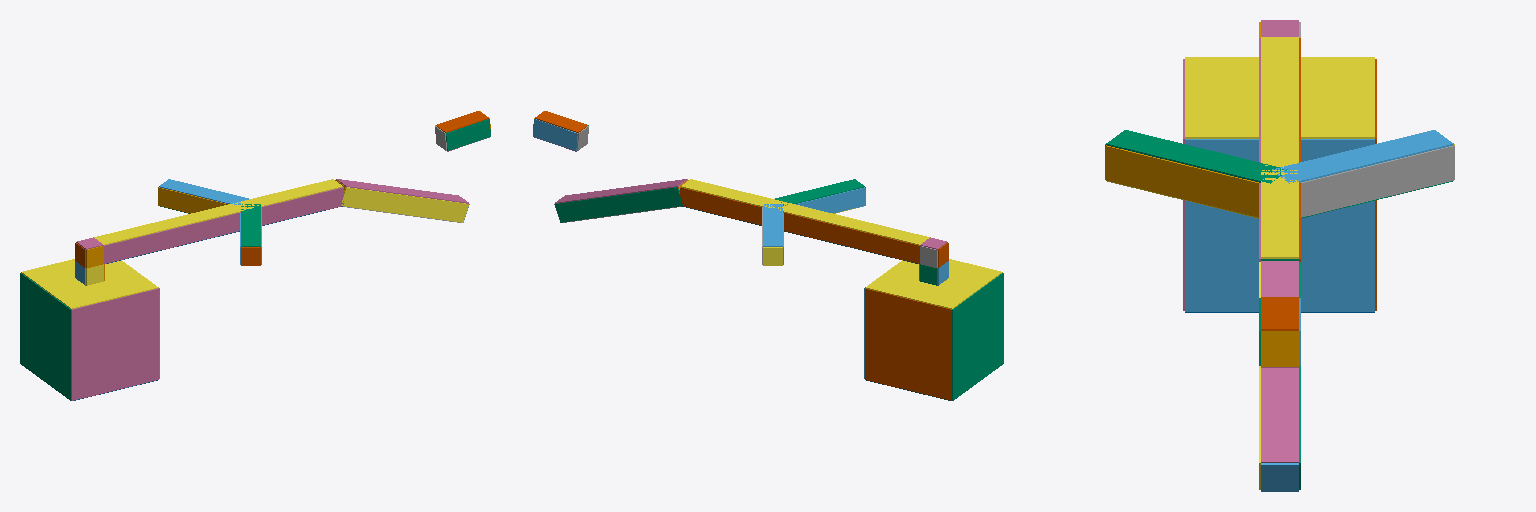
--- Facts derived from the render (not from the file) ---
3 views of the same robot in one strip: view 1: azimuth 30°, elevation 25°; view 2: azimuth 150°, elevation 25°; view 3: azimuth 270°, elevation 25° (orthographic).
Robot: robot — 73 links, 72 joints (2 continuous, 70 fixed); root link body; default pose: all joints at 0.
Links seen in each view (by area): view 1: body_sensor_0_right, body_sensor_0_stop, arm_sensor_0_right, body_sensor_0_top, arm_sensor_0_top, finger_1_3_sensor_0_right, palm_2_sensor_0_stop, finger_1_3_sensor_0_start, palm_2_sensor_0_top, finger_2_3_sensor_0_right, palm_1_sensor_0_top; view 2: body_sensor_0_left, body_sensor_0_stop, arm_sensor_0_left, body_sensor_0_top, arm_sensor_0_top, finger_1_3_sensor_0_left, palm_1_sensor_0_stop, finger_1_3_sensor_0_start, palm_2_sensor_0_top, palm_1_sensor_0_top, finger_2_3_sensor_0_left; view 3: body_sensor_0_start, body_sensor_0_top, arm_sensor_0_top, palm_1_sensor_0_start, palm_2_sensor_0_start, finger_1_3_sensor_0_start, palm_2_sensor_0_top, palm_1_sensor_0_top, finger_2_3_sensor_0_bottom, finger_2_3_sensor_0_start, finger_1_3_sensor_0_bottom, joint_2_sensor_0_top.
Link boxes in pixels (<box>): body_sensor_0_right: <box>72,288,158,400</box>; body_sensor_0_stop: <box>20,273,71,400</box>; arm_sensor_0_right: <box>104,187,343,263</box>; body_sensor_0_top: <box>21,259,158,308</box>; arm_sensor_0_top: <box>94,179,342,244</box>; finger_1_3_sensor_0_right: <box>341,187,468,222</box>; palm_2_sensor_0_stop: <box>158,187,227,213</box>; finger_1_3_sensor_0_start: <box>336,179,468,203</box>; palm_2_sensor_0_top: <box>159,179,248,204</box>; finger_2_3_sensor_0_right: <box>446,119,490,150</box>; palm_1_sensor_0_top: <box>241,204,260,246</box>; body_sensor_0_left: <box>865,288,951,400</box>; body_sensor_0_stop: <box>952,273,1003,400</box>; arm_sensor_0_left: <box>680,187,919,263</box>; body_sensor_0_top: <box>865,259,1002,308</box>; arm_sensor_0_top: <box>681,179,929,244</box>; finger_1_3_sensor_0_left: <box>555,187,682,222</box>; palm_1_sensor_0_stop: <box>796,187,865,213</box>; finger_1_3_sensor_0_start: <box>555,179,687,203</box>; palm_2_sensor_0_top: <box>763,204,782,246</box>; palm_1_sensor_0_top: <box>775,179,864,205</box>; finger_2_3_sensor_0_left: <box>533,119,577,150</box>; body_sensor_0_start: <box>1185,139,1374,311</box>; body_sensor_0_top: <box>1185,57,1374,138</box>; arm_sensor_0_top: <box>1261,37,1298,258</box>; palm_1_sensor_0_start: <box>1105,145,1259,217</box>; palm_2_sensor_0_start: <box>1301,145,1454,217</box>; finger_1_3_sensor_0_start: <box>1261,261,1298,462</box>; palm_2_sensor_0_top: <box>1272,130,1453,183</box>; palm_1_sensor_0_top: <box>1106,130,1287,183</box>; finger_2_3_sensor_0_bottom: <box>1261,331,1298,366</box>; finger_2_3_sensor_0_start: <box>1261,297,1298,330</box>; finger_1_3_sensor_0_bottom: <box>1261,463,1298,491</box>; joint_2_sensor_0_top: <box>1261,20,1298,36</box>.
Size in the robot's own frame: 5.06 by 1.85 by 1.78 metres.
Geometry: primitives only (box / cylinder / sphere), no mesh files.

robot.urdf — robot:
<?xml version="1.0"?>
    <robot name="robot">


    <!-- body -->
    <link name="body">
        <inertial>
            <origin xyz="0 0 0" rpy="0 0 0"/>
            <mass value="100"/>
            <inertia ixx=".1" ixy=".1" ixz=".1" iyy=".1" iyz=".1" izz=".1"/>
        </inertial>
        <visual>
            <origin xyz="0 0 0" rpy="0 0 0"/>
            <geometry>
                <box size="1 1 1"/>
            </geometry>
        </visual>
        <collision>
            <origin xyz="0 0 0" rpy="0 0 0"/>
            <geometry>
                <box size="1 1 1"/>
            </geometry>
        </collision>
    </link>


    <!-- body_sensor_0_start -->
    <link name="body_sensor_0_start">
        <inertial>
            <origin xyz="0 0 0" rpy="0 0 0"/>
            <mass value="0"/>
            <inertia ixx=".1" ixy=".1" ixz=".1" iyy=".1" iyz=".1" izz=".1"/>
        </inertial>
        <visual>
            <origin xyz="0 0 0" rpy="0 0 0"/>
            <geometry>
                <box size="0.02 1 1"/>
            </geometry>
        </visual>
        <collision>
            <origin xyz="0 0 0" rpy="0 0 0"/>
            <geometry>
                <box size="0.02 1 1"/>
            </geometry>
        </collision>
    </link>
    <!-- Joint: body, body_sensor_0_start -->
    <joint name="body_body_sensor_0_start_joint" type="fixed">
        <parent link="body"/>
        <child link="body_sensor_0_start"/>
        <origin xyz="0.5 0 0"
                rpy="0 0 0"/>
        <axis xyz="0 0 1"/>
        
    </joint>


    <!-- body_sensor_0_stop -->
    <link name="body_sensor_0_stop">
        <inertial>
            <origin xyz="0 0 0" rpy="0 0 0"/>
            <mass value="0"/>
            <inertia ixx=".1" ixy=".1" ixz=".1" iyy=".1" iyz=".1" izz=".1"/>
        </inertial>
        <visual>
            <origin xyz="0 0 0" rpy="0 0 0"/>
            <geometry>
                <box size="0.02 1 1"/>
            </geometry>
        </visual>
        <collision>
            <origin xyz="0 0 0" rpy="0 0 0"/>
            <geometry>
                <box size="0.02 1 1"/>
            </geometry>
        </collision>
    </link>
    <!-- Joint: body, body_sensor_0_stop -->
    <joint name="body_body_sensor_0_stop_joint" type="fixed">
        <parent link="body"/>
        <child link="body_sensor_0_stop"/>
        <origin xyz="-0.5 0 0"
                rpy="0 0 0"/>
        <axis xyz="0 0 1"/>
        
    </joint>


    <!-- body_sensor_0_top -->
    <link name="body_sensor_0_top">
        <inertial>
            <origin xyz="0 0 0" rpy="0 0 0"/>
            <mass value="0"/>
            <inertia ixx=".1" ixy=".1" ixz=".1" iyy=".1" iyz=".1" izz=".1"/>
        </inertial>
        <visual>
            <origin xyz="0 0 0" rpy="0 0 0"/>
            <geometry>
                <box size="1.0 1 0.02"/>
            </geometry>
        </visual>
        <collision>
            <origin xyz="0 0 0" rpy="0 0 0"/>
            <geometry>
                <box size="1.0 1 0.02"/>
            </geometry>
        </collision>
    </link>
    <!-- Joint: body, body_sensor_0_top -->
    <joint name="body_body_sensor_0_top_joint" type="fixed">
        <parent link="body"/>
        <child link="body_sensor_0_top"/>
        <origin xyz="0 0 0.5"
                rpy="0 0 0"/>
        <axis xyz="0 0 1"/>
        
    </joint>


    <!-- body_sensor_0_bottom -->
    <link name="body_sensor_0_bottom">
        <inertial>
            <origin xyz="0 0 0" rpy="0 0 0"/>
            <mass value="0"/>
            <inertia ixx=".1" ixy=".1" ixz=".1" iyy=".1" iyz=".1" izz=".1"/>
        </inertial>
        <visual>
            <origin xyz="0 0 0" rpy="0 0 0"/>
            <geometry>
                <box size="1.0 1 0.02"/>
            </geometry>
        </visual>
        <collision>
            <origin xyz="0 0 0" rpy="0 0 0"/>
            <geometry>
                <box size="1.0 1 0.02"/>
            </geometry>
        </collision>
    </link>
    <!-- Joint: body, body_sensor_0_bottom -->
    <joint name="body_body_sensor_0_bottom_joint" type="fixed">
        <parent link="body"/>
        <child link="body_sensor_0_bottom"/>
        <origin xyz="0 0 -0.5"
                rpy="0 0 0"/>
        <axis xyz="0 0 1"/>
        
    </joint>


    <!-- body_sensor_0_left -->
    <link name="body_sensor_0_left">
        <inertial>
            <origin xyz="0 0 0" rpy="0 0 0"/>
            <mass value="0"/>
            <inertia ixx=".1" ixy=".1" ixz=".1" iyy=".1" iyz=".1" izz=".1"/>
        </inertial>
        <visual>
            <origin xyz="0 0 0" rpy="0 0 0"/>
            <geometry>
                <box size="1.0 0.02 1"/>
            </geometry>
        </visual>
        <collision>
            <origin xyz="0 0 0" rpy="0 0 0"/>
            <geometry>
                <box size="1.0 0.02 1"/>
            </geometry>
        </collision>
    </link>
    <!-- Joint: body, body_sensor_0_left -->
    <joint name="body_body_sensor_0_left_joint" type="fixed">
        <parent link="body"/>
        <child link="body_sensor_0_left"/>
        <origin xyz="0 0.5 0"
                rpy="0 0 0"/>
        <axis xyz="0 0 1"/>
        
    </joint>


    <!-- body_sensor_0_right -->
    <link name="body_sensor_0_right">
        <inertial>
            <origin xyz="0 0 0" rpy="0 0 0"/>
            <mass value="0"/>
            <inertia ixx=".1" ixy=".1" ixz=".1" iyy=".1" iyz=".1" izz=".1"/>
        </inertial>
        <visual>
            <origin xyz="0 0 0" rpy="0 0 0"/>
            <geometry>
                <box size="1.0 0.02 1"/>
            </geometry>
        </visual>
        <collision>
            <origin xyz="0 0 0" rpy="0 0 0"/>
            <geometry>
                <box size="1.0 0.02 1"/>
            </geometry>
        </collision>
    </link>
    <!-- Joint: body, body_sensor_0_right -->
    <joint name="body_body_sensor_0_right_joint" type="fixed">
        <parent link="body"/>
        <child link="body_sensor_0_right"/>
        <origin xyz="0 -0.5 0"
                rpy="0 0 0"/>
        <axis xyz="0 0 1"/>
        
    </joint>


    <!-- joint_1 -->
    <link name="joint_1">
        <inertial>
            <origin xyz="0 0 0" rpy="0 0 0"/>
            <mass value="2"/>
            <inertia ixx=".1" ixy=".1" ixz=".1" iyy=".1" iyz=".1" izz=".1"/>
        </inertial>
        <visual>
            <origin xyz="0 0 0" rpy="0 0 0"/>
            <geometry>
                <box size="0.2 0.2 0.2"/>
            </geometry>
        </visual>
        <collision>
            <origin xyz="0 0 0" rpy="0 0 0"/>
            <geometry>
                <box size="0.2 0.2 0.2"/>
            </geometry>
        </collision>
    </link>


    <!-- joint_1_sensor_0_start -->
    <link name="joint_1_sensor_0_start">
        <inertial>
            <origin xyz="0 0 0" rpy="0 0 0"/>
            <mass value="0"/>
            <inertia ixx=".1" ixy=".1" ixz=".1" iyy=".1" iyz=".1" izz=".1"/>
        </inertial>
        <visual>
            <origin xyz="0 0 0" rpy="0 0 0"/>
            <geometry>
                <box size="0.02 0.2 0.2"/>
            </geometry>
        </visual>
        <collision>
            <origin xyz="0 0 0" rpy="0 0 0"/>
            <geometry>
                <box size="0.02 0.2 0.2"/>
            </geometry>
        </collision>
    </link>
    <!-- Joint: joint_1, joint_1_sensor_0_start -->
    <joint name="joint_1_joint_1_sensor_0_start_joint" type="fixed">
        <parent link="joint_1"/>
        <child link="joint_1_sensor_0_start"/>
        <origin xyz="0.1 0 0"
                rpy="0 0 0"/>
        <axis xyz="0 0 1"/>
        
    </joint>


    <!-- joint_1_sensor_0_stop -->
    <link name="joint_1_sensor_0_stop">
        <inertial>
            <origin xyz="0 0 0" rpy="0 0 0"/>
            <mass value="0"/>
            <inertia ixx=".1" ixy=".1" ixz=".1" iyy=".1" iyz=".1" izz=".1"/>
        </inertial>
        <visual>
            <origin xyz="0 0 0" rpy="0 0 0"/>
            <geometry>
                <box size="0.02 0.2 0.2"/>
            </geometry>
        </visual>
        <collision>
            <origin xyz="0 0 0" rpy="0 0 0"/>
            <geometry>
                <box size="0.02 0.2 0.2"/>
            </geometry>
        </collision>
    </link>
    <!-- Joint: joint_1, joint_1_sensor_0_stop -->
    <joint name="joint_1_joint_1_sensor_0_stop_joint" type="fixed">
        <parent link="joint_1"/>
        <child link="joint_1_sensor_0_stop"/>
        <origin xyz="-0.1 0 0"
                rpy="0 0 0"/>
        <axis xyz="0 0 1"/>
        
    </joint>


    <!-- joint_1_sensor_0_left -->
    <link name="joint_1_sensor_0_left">
        <inertial>
            <origin xyz="0 0 0" rpy="0 0 0"/>
            <mass value="0"/>
            <inertia ixx=".1" ixy=".1" ixz=".1" iyy=".1" iyz=".1" izz=".1"/>
        </inertial>
        <visual>
            <origin xyz="0 0 0" rpy="0 0 0"/>
            <geometry>
                <box size="0.2 0.02 0.2"/>
            </geometry>
        </visual>
        <collision>
            <origin xyz="0 0 0" rpy="0 0 0"/>
            <geometry>
                <box size="0.2 0.02 0.2"/>
            </geometry>
        </collision>
    </link>
    <!-- Joint: joint_1, joint_1_sensor_0_left -->
    <joint name="joint_1_joint_1_sensor_0_left_joint" type="fixed">
        <parent link="joint_1"/>
        <child link="joint_1_sensor_0_left"/>
        <origin xyz="0 0.1 0"
                rpy="0 0 0"/>
        <axis xyz="0 0 1"/>
        
    </joint>


    <!-- joint_1_sensor_0_right -->
    <link name="joint_1_sensor_0_right">
        <inertial>
            <origin xyz="0 0 0" rpy="0 0 0"/>
            <mass value="0"/>
            <inertia ixx=".1" ixy=".1" ixz=".1" iyy=".1" iyz=".1" izz=".1"/>
        </inertial>
        <visual>
            <origin xyz="0 0 0" rpy="0 0 0"/>
            <geometry>
                <box size="0.2 0.02 0.2"/>
            </geometry>
        </visual>
        <collision>
            <origin xyz="0 0 0" rpy="0 0 0"/>
            <geometry>
                <box size="0.2 0.02 0.2"/>
            </geometry>
        </collision>
    </link>
    <!-- Joint: joint_1, joint_1_sensor_0_right -->
    <joint name="joint_1_joint_1_sensor_0_right_joint" type="fixed">
        <parent link="joint_1"/>
        <child link="joint_1_sensor_0_right"/>
        <origin xyz="0 -0.1 0"
                rpy="0 0 0"/>
        <axis xyz="0 0 1"/>
        
    </joint>
    <!-- Joint: body, joint_1 -->
    <joint name="body_joint_1_joint" type="continuous">
        <parent link="body"/>
        <child link="joint_1"/>
        <origin xyz="0 0 0.6"
                rpy="0 0 0"/>
        <axis xyz="0 0 1"/>
        <limit lower="0" upper="0" effort="0" velocity="0"/>
    </joint>


    <!-- joint_2 -->
    <link name="joint_2">
        <inertial>
            <origin xyz="0 0 0" rpy="0 0 0"/>
            <mass value="2"/>
            <inertia ixx=".1" ixy=".1" ixz=".1" iyy=".1" iyz=".1" izz=".1"/>
        </inertial>
        <visual>
            <origin xyz="0 0 0" rpy="0 0 0"/>
            <geometry>
                <box size="0.2 0.2 0.2"/>
            </geometry>
        </visual>
        <collision>
            <origin xyz="0 0 0" rpy="0 0 0"/>
            <geometry>
                <box size="0.2 0.2 0.2"/>
            </geometry>
        </collision>
    </link>


    <!-- joint_2_sensor_0_stop -->
    <link name="joint_2_sensor_0_stop">
        <inertial>
            <origin xyz="0 0 0" rpy="0 0 0"/>
            <mass value="0"/>
            <inertia ixx=".1" ixy=".1" ixz=".1" iyy=".1" iyz=".1" izz=".1"/>
        </inertial>
        <visual>
            <origin xyz="0 0 0" rpy="0 0 0"/>
            <geometry>
                <box size="0.02 0.2 0.2"/>
            </geometry>
        </visual>
        <collision>
            <origin xyz="0 0 0" rpy="0 0 0"/>
            <geometry>
                <box size="0.02 0.2 0.2"/>
            </geometry>
        </collision>
    </link>
    <!-- Joint: joint_2, joint_2_sensor_0_stop -->
    <joint name="joint_2_joint_2_sensor_0_stop_joint" type="fixed">
        <parent link="joint_2"/>
        <child link="joint_2_sensor_0_stop"/>
        <origin xyz="-0.1 0 0"
                rpy="0 0 0"/>
        <axis xyz="0 1 0"/>
        
    </joint>


    <!-- joint_2_sensor_0_top -->
    <link name="joint_2_sensor_0_top">
        <inertial>
            <origin xyz="0 0 0" rpy="0 0 0"/>
            <mass value="0"/>
            <inertia ixx=".1" ixy=".1" ixz=".1" iyy=".1" iyz=".1" izz=".1"/>
        </inertial>
        <visual>
            <origin xyz="0 0 0" rpy="0 0 0"/>
            <geometry>
                <box size="0.2 0.2 0.02"/>
            </geometry>
        </visual>
        <collision>
            <origin xyz="0 0 0" rpy="0 0 0"/>
            <geometry>
                <box size="0.2 0.2 0.02"/>
            </geometry>
        </collision>
    </link>
    <!-- Joint: joint_2, joint_2_sensor_0_top -->
    <joint name="joint_2_joint_2_sensor_0_top_joint" type="fixed">
        <parent link="joint_2"/>
        <child link="joint_2_sensor_0_top"/>
        <origin xyz="0 0 0.1"
                rpy="0 0 0"/>
        <axis xyz="0 1 0"/>
        
    </joint>


    <!-- joint_2_sensor_0_left -->
    <link name="joint_2_sensor_0_left">
        <inertial>
            <origin xyz="0 0 0" rpy="0 0 0"/>
            <mass value="0"/>
            <inertia ixx=".1" ixy=".1" ixz=".1" iyy=".1" iyz=".1" izz=".1"/>
        </inertial>
        <visual>
            <origin xyz="0 0 0" rpy="0 0 0"/>
            <geometry>
                <box size="0.2 0.02 0.2"/>
            </geometry>
        </visual>
        <collision>
            <origin xyz="0 0 0" rpy="0 0 0"/>
            <geometry>
                <box size="0.2 0.02 0.2"/>
            </geometry>
        </collision>
    </link>
    <!-- Joint: joint_2, joint_2_sensor_0_left -->
    <joint name="joint_2_joint_2_sensor_0_left_joint" type="fixed">
        <parent link="joint_2"/>
        <child link="joint_2_sensor_0_left"/>
        <origin xyz="0 0.1 0"
                rpy="0 0 0"/>
        <axis xyz="0 1 0"/>
        
    </joint>


    <!-- joint_2_sensor_0_right -->
    <link name="joint_2_sensor_0_right">
        <inertial>
            <origin xyz="0 0 0" rpy="0 0 0"/>
            <mass value="0"/>
            <inertia ixx=".1" ixy=".1" ixz=".1" iyy=".1" iyz=".1" izz=".1"/>
        </inertial>
        <visual>
            <origin xyz="0 0 0" rpy="0 0 0"/>
            <geometry>
                <box size="0.2 0.02 0.2"/>
            </geometry>
        </visual>
        <collision>
            <origin xyz="0 0 0" rpy="0 0 0"/>
            <geometry>
                <box size="0.2 0.02 0.2"/>
            </geometry>
        </collision>
    </link>
    <!-- Joint: joint_2, joint_2_sensor_0_right -->
    <joint name="joint_2_joint_2_sensor_0_right_joint" type="fixed">
        <parent link="joint_2"/>
        <child link="joint_2_sensor_0_right"/>
        <origin xyz="0 -0.1 0"
                rpy="0 0 0"/>
        <axis xyz="0 1 0"/>
        
    </joint>
    <!-- Joint: joint_1, joint_2 -->
    <joint name="joint_1_joint_2_joint" type="continuous">
        <parent link="joint_1"/>
        <child link="joint_2"/>
        <origin xyz="0 0 0.2"
                rpy="0 0 0"/>
        <axis xyz="0 1 0"/>
        <limit lower="0" upper="0" effort="0" velocity="0"/>
    </joint>


    <!-- arm -->
    <link name="arm">
        <inertial>
            <origin xyz="0 0 0" rpy="0 0 0"/>
            <mass value="2"/>
            <inertia ixx=".1" ixy=".1" ixz=".1" iyy=".1" iyz=".1" izz=".1"/>
        </inertial>
        <visual>
            <origin xyz="0 0 0" rpy="0 0 0"/>
            <geometry>
                <box size="2.75 0.2 0.2"/>
            </geometry>
        </visual>
        <collision>
            <origin xyz="0 0 0" rpy="0 0 0"/>
            <geometry>
                <box size="2.75 0.2 0.2"/>
            </geometry>
        </collision>
    </link>


    <!-- arm_sensor_0_start -->
    <link name="arm_sensor_0_start">
        <inertial>
            <origin xyz="0 0 0" rpy="0 0 0"/>
            <mass value="0"/>
            <inertia ixx=".1" ixy=".1" ixz=".1" iyy=".1" iyz=".1" izz=".1"/>
        </inertial>
        <visual>
            <origin xyz="0 0 0" rpy="0 0 0"/>
            <geometry>
                <box size="0.02 0.2 0.2"/>
            </geometry>
        </visual>
        <collision>
            <origin xyz="0 0 0" rpy="0 0 0"/>
            <geometry>
                <box size="0.02 0.2 0.2"/>
            </geometry>
        </collision>
    </link>
    <!-- Joint: arm, arm_sensor_0_start -->
    <joint name="arm_arm_sensor_0_start_joint" type="fixed">
        <parent link="arm"/>
        <child link="arm_sensor_0_start"/>
        <origin xyz="1.375 0 0"
                rpy="0 0 0"/>
        <axis xyz="0 1 0"/>
        
    </joint>


    <!-- arm_sensor_0_top -->
    <link name="arm_sensor_0_top">
        <inertial>
            <origin xyz="0 0 0" rpy="0 0 0"/>
            <mass value="0"/>
            <inertia ixx=".1" ixy=".1" ixz=".1" iyy=".1" iyz=".1" izz=".1"/>
        </inertial>
        <visual>
            <origin xyz="0 0 0" rpy="0 0 0"/>
            <geometry>
                <box size="2.75 0.2 0.02"/>
            </geometry>
        </visual>
        <collision>
            <origin xyz="0 0 0" rpy="0 0 0"/>
            <geometry>
                <box size="2.75 0.2 0.02"/>
            </geometry>
        </collision>
    </link>
    <!-- Joint: arm, arm_sensor_0_top -->
    <joint name="arm_arm_sensor_0_top_joint" type="fixed">
        <parent link="arm"/>
        <child link="arm_sensor_0_top"/>
        <origin xyz="0 0 0.1"
                rpy="0 0 0"/>
        <axis xyz="0 1 0"/>
        
    </joint>


    <!-- arm_sensor_0_bottom -->
    <link name="arm_sensor_0_bottom">
        <inertial>
            <origin xyz="0 0 0" rpy="0 0 0"/>
            <mass value="0"/>
            <inertia ixx=".1" ixy=".1" ixz=".1" iyy=".1" iyz=".1" izz=".1"/>
        </inertial>
        <visual>
            <origin xyz="0 0 0" rpy="0 0 0"/>
            <geometry>
                <box size="2.75 0.2 0.02"/>
            </geometry>
        </visual>
        <collision>
            <origin xyz="0 0 0" rpy="0 0 0"/>
            <geometry>
                <box size="2.75 0.2 0.02"/>
            </geometry>
        </collision>
    </link>
    <!-- Joint: arm, arm_sensor_0_bottom -->
    <joint name="arm_arm_sensor_0_bottom_joint" type="fixed">
        <parent link="arm"/>
        <child link="arm_sensor_0_bottom"/>
        <origin xyz="0 0 -0.1"
                rpy="0 0 0"/>
        <axis xyz="0 1 0"/>
        
    </joint>


    <!-- arm_sensor_0_left -->
    <link name="arm_sensor_0_left">
        <inertial>
            <origin xyz="0 0 0" rpy="0 0 0"/>
            <mass value="0"/>
            <inertia ixx=".1" ixy=".1" ixz=".1" iyy=".1" iyz=".1" izz=".1"/>
        </inertial>
        <visual>
            <origin xyz="0 0 0" rpy="0 0 0"/>
            <geometry>
                <box size="2.75 0.02 0.2"/>
            </geometry>
        </visual>
        <collision>
            <origin xyz="0 0 0" rpy="0 0 0"/>
            <geometry>
                <box size="2.75 0.02 0.2"/>
            </geometry>
        </collision>
    </link>
    <!-- Joint: arm, arm_sensor_0_left -->
    <joint name="arm_arm_sensor_0_left_joint" type="fixed">
        <parent link="arm"/>
        <child link="arm_sensor_0_left"/>
        <origin xyz="0 0.1 0"
                rpy="0 0 0"/>
        <axis xyz="0 1 0"/>
        
    </joint>


    <!-- arm_sensor_0_right -->
    <link name="arm_sensor_0_right">
        <inertial>
            <origin xyz="0 0 0" rpy="0 0 0"/>
            <mass value="0"/>
            <inertia ixx=".1" ixy=".1" ixz=".1" iyy=".1" iyz=".1" izz=".1"/>
        </inertial>
        <visual>
            <origin xyz="0 0 0" rpy="0 0 0"/>
            <geometry>
                <box size="2.75 0.02 0.2"/>
            </geometry>
        </visual>
        <collision>
            <origin xyz="0 0 0" rpy="0 0 0"/>
            <geometry>
                <box size="2.75 0.02 0.2"/>
            </geometry>
        </collision>
    </link>
    <!-- Joint: arm, arm_sensor_0_right -->
    <joint name="arm_arm_sensor_0_right_joint" type="fixed">
        <parent link="arm"/>
        <child link="arm_sensor_0_right"/>
        <origin xyz="0 -0.1 0"
                rpy="0 0 0"/>
        <axis xyz="0 1 0"/>
        
    </joint>
    <!-- Joint: joint_2, arm -->
    <joint name="joint_2_arm_joint" type="fixed">
        <parent link="joint_2"/>
        <child link="arm"/>
        <origin xyz="1.475 0 0"
                rpy="0 0 0"/>
        <axis xyz="0 1 0"/>
        
    </joint>


    <!-- palm_1 -->
    <link name="palm_1">
        <inertial>
            <origin xyz="0 0 0" rpy="0 0 0"/>
            <mass value="2"/>
            <inertia ixx=".1" ixy=".1" ixz=".1" iyy=".1" iyz=".1" izz=".1"/>
        </inertial>
        <visual>
            <origin xyz="0 0 0" rpy="0 0 0"/>
            <geometry>
                <box size="0.2 1 0.2"/>
            </geometry>
        </visual>
        <collision>
            <origin xyz="0 0 0" rpy="0 0 0"/>
            <geometry>
                <box size="0.2 1 0.2"/>
            </geometry>
        </collision>
    </link>


    <!-- palm_1_sensor_0_start -->
    <link name="palm_1_sensor_0_start">
        <inertial>
            <origin xyz="0 0 0" rpy="0 0 0"/>
            <mass value="0"/>
            <inertia ixx=".1" ixy=".1" ixz=".1" iyy=".1" iyz=".1" izz=".1"/>
        </inertial>
        <visual>
            <origin xyz="0 0 0" rpy="0 0 0"/>
            <geometry>
                <box size="0.02 1 0.2"/>
            </geometry>
        </visual>
        <collision>
            <origin xyz="0 0 0" rpy="0 0 0"/>
            <geometry>
                <box size="0.02 1 0.2"/>
            </geometry>
        </collision>
    </link>
    <!-- Joint: palm_1, palm_1_sensor_0_start -->
    <joint name="palm_1_palm_1_sensor_0_start_joint" type="fixed">
        <parent link="palm_1"/>
        <child link="palm_1_sensor_0_start"/>
        <origin xyz="0.1 0 0"
                rpy="0 0 0"/>
        <axis xyz="0 1 0"/>
        
    </joint>


    <!-- palm_1_sensor_0_stop -->
    <link name="palm_1_sensor_0_stop">
        <inertial>
            <origin xyz="0 0 0" rpy="0 0 0"/>
            <mass value="0"/>
            <inertia ixx=".1" ixy=".1" ixz=".1" iyy=".1" iyz=".1" izz=".1"/>
        </inertial>
        <visual>
            <origin xyz="0 0 0" rpy="0 0 0"/>
            <geometry>
                <box size="0.02 1 0.2"/>
            </geometry>
        </visual>
        <collision>
            <origin xyz="0 0 0" rpy="0 0 0"/>
            <geometry>
                <box size="0.02 1 0.2"/>
            </geometry>
        </collision>
    </link>
    <!-- Joint: palm_1, palm_1_sensor_0_stop -->
    <joint name="palm_1_palm_1_sensor_0_stop_joint" type="fixed">
        <parent link="palm_1"/>
        <child link="palm_1_sensor_0_stop"/>
        <origin xyz="-0.1 0 0"
                rpy="0 0 0"/>
        <axis xyz="0 1 0"/>
        
    </joint>


    <!-- palm_1_sensor_0_top -->
    <link name="palm_1_sensor_0_top">
        <inertial>
            <origin xyz="0 0 0" rpy="0 0 0"/>
            <mass value="0"/>
            <inertia ixx=".1" ixy=".1" ixz=".1" iyy=".1" iyz=".1" izz=".1"/>
        </inertial>
        <visual>
            <origin xyz="0 0 0" rpy="0 0 0"/>
            <geometry>
                <box size="0.2 1 0.02"/>
            </geometry>
        </visual>
        <collision>
            <origin xyz="0 0 0" rpy="0 0 0"/>
            <geometry>
                <box size="0.2 1 0.02"/>
            </geometry>
        </collision>
    </link>
    <!-- Joint: palm_1, palm_1_sensor_0_top -->
    <joint name="palm_1_palm_1_sensor_0_top_joint" type="fixed">
        <parent link="palm_1"/>
        <child link="palm_1_sensor_0_top"/>
        <origin xyz="0 0 0.1"
                rpy="0 0 0"/>
        <axis xyz="0 1 0"/>
        
    </joint>


    <!-- palm_1_sensor_0_bottom -->
    <link name="palm_1_sensor_0_bottom">
        <inertial>
            <origin xyz="0 0 0" rpy="0 0 0"/>
            <mass value="0"/>
            <inertia ixx=".1" ixy=".1" ixz=".1" iyy=".1" iyz=".1" izz=".1"/>
        </inertial>
        <visual>
            <origin xyz="0 0 0" rpy="0 0 0"/>
            <geometry>
                <box size="0.2 1 0.02"/>
            </geometry>
        </visual>
        <collision>
            <origin xyz="0 0 0" rpy="0 0 0"/>
            <geometry>
                <box size="0.2 1 0.02"/>
            </geometry>
        </collision>
    </link>
    <!-- Joint: palm_1, palm_1_sensor_0_bottom -->
    <joint name="palm_1_palm_1_sensor_0_bottom_joint" type="fixed">
        <parent link="palm_1"/>
        <child link="palm_1_sensor_0_bottom"/>
        <origin xyz="0 0 -0.1"
                rpy="0 0 0"/>
        <axis xyz="0 1 0"/>
        
    </joint>


    <!-- palm_1_sensor_0_left -->
    <link name="palm_1_sensor_0_left">
        <inertial>
            <origin xyz="0 0 0" rpy="0 0 0"/>
            <mass value="0"/>
            <inertia ixx=".1" ixy=".1" ixz=".1" iyy=".1" iyz=".1" izz=".1"/>
        </inertial>
        <visual>
            <origin xyz="0 0 0" rpy="0 0 0"/>
            <geometry>
                <box size="0.2 0.02 0.2"/>
            </geometry>
        </visual>
        <collision>
            <origin xyz="0 0 0" rpy="0 0 0"/>
            <geometry>
                <box size="0.2 0.02 0.2"/>
            </geometry>
        </collision>
    </link>
    <!-- Joint: palm_1, palm_1_sensor_0_left -->
    <joint name="palm_1_palm_1_sensor_0_left_joint" type="fixed">
        <parent link="palm_1"/>
        <child link="palm_1_sensor_0_left"/>
        <origin xyz="0 0.5 0"
                rpy="0 0 0"/>
        <axis xyz="0 1 0"/>
        
    </joint>


    <!-- palm_1_sensor_0_right -->
    <link name="palm_1_sensor_0_right">
        <inertial>
            <origin xyz="0 0 0" rpy="0 0 0"/>
            <mass value="0"/>
            <inertia ixx=".1" ixy=".1" ixz=".1" iyy=".1" iyz=".1" izz=".1"/>
        </inertial>
        <visual>
            <origin xyz="0 0 0" rpy="0 0 0"/>
            <geometry>
                <box size="0.2 0.02 0.2"/>
            </geometry>
        </visual>
        <collision>
            <origin xyz="0 0 0" rpy="0 0 0"/>
            <geometry>
                <box size="0.2 0.02 0.2"/>
            </geometry>
        </collision>
    </link>
    <!-- Joint: palm_1, palm_1_sensor_0_right -->
    <joint name="palm_1_palm_1_sensor_0_right_joint" type="fixed">
        <parent link="palm_1"/>
        <child link="palm_1_sensor_0_right"/>
        <origin xyz="0 -0.5 0"
                rpy="0 0 0"/>
        <axis xyz="0 1 0"/>
        
    </joint>
    <!-- Joint: arm, palm_1 -->
    <joint name="arm_palm_1_joint" type="fixed">
        <parent link="arm"/>
        <child link="palm_1"/>
        <origin xyz="0.125 -0.4330127018922193 0"
                rpy="0 0 -0.5235987755982988"/>
        <axis xyz="0 1 0"/>
        
    </joint>


    <!-- palm_2 -->
    <link name="palm_2">
        <inertial>
            <origin xyz="0 0 0" rpy="0 0 0"/>
            <mass value="2"/>
            <inertia ixx=".1" ixy=".1" ixz=".1" iyy=".1" iyz=".1" izz=".1"/>
        </inertial>
        <visual>
            <origin xyz="0 0 0" rpy="0 0 0"/>
            <geometry>
                <box size="0.2 1 0.2"/>
            </geometry>
        </visual>
        <collision>
            <origin xyz="0 0 0" rpy="0 0 0"/>
            <geometry>
                <box size="0.2 1 0.2"/>
            </geometry>
        </collision>
    </link>


    <!-- palm_2_sensor_0_start -->
    <link name="palm_2_sensor_0_start">
        <inertial>
            <origin xyz="0 0 0" rpy="0 0 0"/>
            <mass value="0"/>
            <inertia ixx=".1" ixy=".1" ixz=".1" iyy=".1" iyz=".1" izz=".1"/>
        </inertial>
        <visual>
            <origin xyz="0 0 0" rpy="0 0 0"/>
            <geometry>
                <box size="0.02 1 0.2"/>
            </geometry>
        </visual>
        <collision>
            <origin xyz="0 0 0" rpy="0 0 0"/>
            <geometry>
                <box size="0.02 1 0.2"/>
            </geometry>
        </collision>
    </link>
    <!-- Joint: palm_2, palm_2_sensor_0_start -->
    <joint name="palm_2_palm_2_sensor_0_start_joint" type="fixed">
        <parent link="palm_2"/>
        <child link="palm_2_sensor_0_start"/>
        <origin xyz="0.1 0 0"
                rpy="0 0 0"/>
        <axis xyz="0 1 0"/>
        
    </joint>


    <!-- palm_2_sensor_0_stop -->
    <link name="palm_2_sensor_0_stop">
        <inertial>
            <origin xyz="0 0 0" rpy="0 0 0"/>
            <mass value="0"/>
            <inertia ixx=".1" ixy=".1" ixz=".1" iyy=".1" iyz=".1" izz=".1"/>
        </inertial>
        <visual>
            <origin xyz="0 0 0" rpy="0 0 0"/>
            <geometry>
                <box size="0.02 1 0.2"/>
            </geometry>
        </visual>
        <collision>
            <origin xyz="0 0 0" rpy="0 0 0"/>
            <geometry>
                <box size="0.02 1 0.2"/>
            </geometry>
        </collision>
    </link>
    <!-- Joint: palm_2, palm_2_sensor_0_stop -->
    <joint name="palm_2_palm_2_sensor_0_stop_joint" type="fixed">
        <parent link="palm_2"/>
        <child link="palm_2_sensor_0_stop"/>
        <origin xyz="-0.1 0 0"
                rpy="0 0 0"/>
        <axis xyz="0 1 0"/>
        
    </joint>


    <!-- palm_2_sensor_0_top -->
    <link name="palm_2_sensor_0_top">
        <inertial>
            <origin xyz="0 0 0" rpy="0 0 0"/>
            <mass value="0"/>
            <inertia ixx=".1" ixy=".1" ixz=".1" iyy=".1" iyz=".1" izz=".1"/>
        </inertial>
        <visual>
            <origin xyz="0 0 0" rpy="0 0 0"/>
            <geometry>
                <box size="0.2 1 0.02"/>
            </geometry>
        </visual>
        <collision>
            <origin xyz="0 0 0" rpy="0 0 0"/>
            <geometry>
                <box size="0.2 1 0.02"/>
            </geometry>
        </collision>
    </link>
    <!-- Joint: palm_2, palm_2_sensor_0_top -->
    <joint name="palm_2_palm_2_sensor_0_top_joint" type="fixed">
        <parent link="palm_2"/>
        <child link="palm_2_sensor_0_top"/>
        <origin xyz="0 0 0.1"
                rpy="0 0 0"/>
        <axis xyz="0 1 0"/>
        
    </joint>


    <!-- palm_2_sensor_0_bottom -->
    <link name="palm_2_sensor_0_bottom">
        <inertial>
            <origin xyz="0 0 0" rpy="0 0 0"/>
            <mass value="0"/>
            <inertia ixx=".1" ixy=".1" ixz=".1" iyy=".1" iyz=".1" izz=".1"/>
        </inertial>
        <visual>
            <origin xyz="0 0 0" rpy="0 0 0"/>
            <geometry>
                <box size="0.2 1 0.02"/>
            </geometry>
        </visual>
        <collision>
            <origin xyz="0 0 0" rpy="0 0 0"/>
            <geometry>
                <box size="0.2 1 0.02"/>
            </geometry>
        </collision>
    </link>
    <!-- Joint: palm_2, palm_2_sensor_0_bottom -->
    <joint name="palm_2_palm_2_sensor_0_bottom_joint" type="fixed">
        <parent link="palm_2"/>
        <child link="palm_2_sensor_0_bottom"/>
        <origin xyz="0 0 -0.1"
                rpy="0 0 0"/>
        <axis xyz="0 1 0"/>
        
    </joint>


    <!-- palm_2_sensor_0_left -->
    <link name="palm_2_sensor_0_left">
        <inertial>
            <origin xyz="0 0 0" rpy="0 0 0"/>
            <mass value="0"/>
            <inertia ixx=".1" ixy=".1" ixz=".1" iyy=".1" iyz=".1" izz=".1"/>
        </inertial>
        <visual>
            <origin xyz="0 0 0" rpy="0 0 0"/>
            <geometry>
                <box size="0.2 0.02 0.2"/>
            </geometry>
        </visual>
        <collision>
            <origin xyz="0 0 0" rpy="0 0 0"/>
            <geometry>
                <box size="0.2 0.02 0.2"/>
            </geometry>
        </collision>
    </link>
    <!-- Joint: palm_2, palm_2_sensor_0_left -->
    <joint name="palm_2_palm_2_sensor_0_left_joint" type="fixed">
        <parent link="palm_2"/>
        <child link="palm_2_sensor_0_left"/>
        <origin xyz="0 0.5 0"
                rpy="0 0 0"/>
        <axis xyz="0 1 0"/>
        
    </joint>


    <!-- palm_2_sensor_0_right -->
    <link name="palm_2_sensor_0_right">
        <inertial>
            <origin xyz="0 0 0" rpy="0 0 0"/>
            <mass value="0"/>
            <inertia ixx=".1" ixy=".1" ixz=".1" iyy=".1" iyz=".1" izz=".1"/>
        </inertial>
        <visual>
            <origin xyz="0 0 0" rpy="0 0 0"/>
            <geometry>
                <box size="0.2 0.02 0.2"/>
            </geometry>
        </visual>
        <collision>
            <origin xyz="0 0 0" rpy="0 0 0"/>
            <geometry>
                <box size="0.2 0.02 0.2"/>
            </geometry>
        </collision>
    </link>
    <!-- Joint: palm_2, palm_2_sensor_0_right -->
    <joint name="palm_2_palm_2_sensor_0_right_joint" type="fixed">
        <parent link="palm_2"/>
        <child link="palm_2_sensor_0_right"/>
        <origin xyz="0 -0.5 0"
                rpy="0 0 0"/>
        <axis xyz="0 1 0"/>
        
    </joint>
    <!-- Joint: arm, palm_2 -->
    <joint name="arm_palm_2_joint" type="fixed">
        <parent link="arm"/>
        <child link="palm_2"/>
        <origin xyz="0.125 0.4330127018922193 0"
                rpy="0 0 0.5235987755982988"/>
        <axis xyz="0 1 0"/>
        
    </joint>


    <!-- finger_1_3 -->
    <link name="finger_1_3">
        <inertial>
            <origin xyz="0 0 0" rpy="0 0 0"/>
            <mass value="2"/>
            <inertia ixx=".1" ixy=".1" ixz=".1" iyy=".1" iyz=".1" izz=".1"/>
        </inertial>
        <visual>
            <origin xyz="0 0 0" rpy="0 0 0"/>
            <geometry>
                <box size="0.2 0.2 1.5"/>
            </geometry>
        </visual>
        <collision>
            <origin xyz="0 0 0" rpy="0 0 0"/>
            <geometry>
                <box size="0.2 0.2 1.5"/>
            </geometry>
        </collision>
    </link>


    <!-- finger_1_3_sensor_0_start -->
    <link name="finger_1_3_sensor_0_start">
        <inertial>
            <origin xyz="0 0 0" rpy="0 0 0"/>
            <mass value="0"/>
            <inertia ixx=".1" ixy=".1" ixz=".1" iyy=".1" iyz=".1" izz=".1"/>
        </inertial>
        <visual>
            <origin xyz="0 0 0" rpy="0 0 0"/>
            <geometry>
                <box size="0.02 0.2 1.5"/>
            </geometry>
        </visual>
        <collision>
            <origin xyz="0 0 0" rpy="0 0 0"/>
            <geometry>
                <box size="0.02 0.2 1.5"/>
            </geometry>
        </collision>
    </link>
    <!-- Joint: finger_1_3, finger_1_3_sensor_0_start -->
    <joint name="finger_1_3_finger_1_3_sensor_0_start_joint" type="fixed">
        <parent link="finger_1_3"/>
        <child link="finger_1_3_sensor_0_start"/>
        <origin xyz="0.1 0 0"
                rpy="0 0 0"/>
        <axis xyz="0 1 0"/>
        
    </joint>


    <!-- finger_1_3_sensor_0_stop -->
    <link name="finger_1_3_sensor_0_stop">
        <inertial>
            <origin xyz="0 0 0" rpy="0 0 0"/>
            <mass value="0"/>
            <inertia ixx=".1" ixy=".1" ixz=".1" iyy=".1" iyz=".1" izz=".1"/>
        </inertial>
        <visual>
            <origin xyz="0 0 0" rpy="0 0 0"/>
            <geometry>
                <box size="0.02 0.2 1.5"/>
            </geometry>
        </visual>
        <collision>
            <origin xyz="0 0 0" rpy="0 0 0"/>
            <geometry>
                <box size="0.02 0.2 1.5"/>
            </geometry>
        </collision>
    </link>
    <!-- Joint: finger_1_3, finger_1_3_sensor_0_stop -->
    <joint name="finger_1_3_finger_1_3_sensor_0_stop_joint" type="fixed">
        <parent link="finger_1_3"/>
        <child link="finger_1_3_sensor_0_stop"/>
        <origin xyz="-0.1 0 0"
                rpy="0 0 0"/>
        <axis xyz="0 1 0"/>
        
    </joint>


    <!-- finger_1_3_sensor_0_top -->
    <link name="finger_1_3_sensor_0_top">
        <inertial>
            <origin xyz="0 0 0" rpy="0 0 0"/>
            <mass value="0"/>
            <inertia ixx=".1" ixy=".1" ixz=".1" iyy=".1" iyz=".1" izz=".1"/>
        </inertial>
        <visual>
            <origin xyz="0 0 0" rpy="0 0 0"/>
            <geometry>
                <box size="0.2 0.2 0.02"/>
            </geometry>
        </visual>
        <collision>
            <origin xyz="0 0 0" rpy="0 0 0"/>
            <geometry>
                <box size="0.2 0.2 0.02"/>
            </geometry>
        </collision>
    </link>
    <!-- Joint: finger_1_3, finger_1_3_sensor_0_top -->
    <joint name="finger_1_3_finger_1_3_sensor_0_top_joint" type="fixed">
        <parent link="finger_1_3"/>
        <child link="finger_1_3_sensor_0_top"/>
        <origin xyz="0 0 0.75"
                rpy="0 0 0"/>
        <axis xyz="0 1 0"/>
        
    </joint>


    <!-- finger_1_3_sensor_0_bottom -->
    <link name="finger_1_3_sensor_0_bottom">
        <inertial>
            <origin xyz="0 0 0" rpy="0 0 0"/>
            <mass value="0"/>
            <inertia ixx=".1" ixy=".1" ixz=".1" iyy=".1" iyz=".1" izz=".1"/>
        </inertial>
        <visual>
            <origin xyz="0 0 0" rpy="0 0 0"/>
            <geometry>
                <box size="0.2 0.2 0.02"/>
            </geometry>
        </visual>
        <collision>
            <origin xyz="0 0 0" rpy="0 0 0"/>
            <geometry>
                <box size="0.2 0.2 0.02"/>
            </geometry>
        </collision>
    </link>
    <!-- Joint: finger_1_3, finger_1_3_sensor_0_bottom -->
    <joint name="finger_1_3_finger_1_3_sensor_0_bottom_joint" type="fixed">
        <parent link="finger_1_3"/>
        <child link="finger_1_3_sensor_0_bottom"/>
        <origin xyz="0 0 -0.75"
                rpy="0 0 0"/>
        <axis xyz="0 1 0"/>
        
    </joint>


    <!-- finger_1_3_sensor_0_left -->
    <link name="finger_1_3_sensor_0_left">
        <inertial>
            <origin xyz="0 0 0" rpy="0 0 0"/>
            <mass value="0"/>
            <inertia ixx=".1" ixy=".1" ixz=".1" iyy=".1" iyz=".1" izz=".1"/>
        </inertial>
        <visual>
            <origin xyz="0 0 0" rpy="0 0 0"/>
            <geometry>
                <box size="0.2 0.02 1.5"/>
            </geometry>
        </visual>
        <collision>
            <origin xyz="0 0 0" rpy="0 0 0"/>
            <geometry>
                <box size="0.2 0.02 1.5"/>
            </geometry>
        </collision>
    </link>
    <!-- Joint: finger_1_3, finger_1_3_sensor_0_left -->
    <joint name="finger_1_3_finger_1_3_sensor_0_left_joint" type="fixed">
        <parent link="finger_1_3"/>
        <child link="finger_1_3_sensor_0_left"/>
        <origin xyz="0 0.1 0"
                rpy="0 0 0"/>
        <axis xyz="0 1 0"/>
        
    </joint>


    <!-- finger_1_3_sensor_0_right -->
    <link name="finger_1_3_sensor_0_right">
        <inertial>
            <origin xyz="0 0 0" rpy="0 0 0"/>
            <mass value="0"/>
            <inertia ixx=".1" ixy=".1" ixz=".1" iyy=".1" iyz=".1" izz=".1"/>
        </inertial>
        <visual>
            <origin xyz="0 0 0" rpy="0 0 0"/>
            <geometry>
                <box size="0.2 0.02 1.5"/>
            </geometry>
        </visual>
        <collision>
            <origin xyz="0 0 0" rpy="0 0 0"/>
            <geometry>
                <box size="0.2 0.02 1.5"/>
            </geometry>
        </collision>
    </link>
    <!-- Joint: finger_1_3, finger_1_3_sensor_0_right -->
    <joint name="finger_1_3_finger_1_3_sensor_0_right_joint" type="fixed">
        <parent link="finger_1_3"/>
        <child link="finger_1_3_sensor_0_right"/>
        <origin xyz="0 -0.1 0"
                rpy="0 0 0"/>
        <axis xyz="0 1 0"/>
        
    </joint>
    <!-- Joint: arm, finger_1_3 -->
    <joint name="arm_finger_1_3_joint" type="fixed">
        <parent link="arm"/>
        <child link="finger_1_3"/>
        <origin xyz="2.079769465589431 0 -0.2565151074942517"
                rpy="0 -1.2217304763960306 0"/>
        <axis xyz="0 1 0"/>
        
    </joint>


    <!-- finger_2_3 -->
    <link name="finger_2_3">
        <inertial>
            <origin xyz="0 0 0" rpy="0 0 0"/>
            <mass value="2"/>
            <inertia ixx=".1" ixy=".1" ixz=".1" iyy=".1" iyz=".1" izz=".1"/>
        </inertial>
        <visual>
            <origin xyz="0 0 0" rpy="0 0 0"/>
            <geometry>
                <box size="0.2 0.2 0.5"/>
            </geometry>
        </visual>
        <collision>
            <origin xyz="0 0 0" rpy="0 0 0"/>
            <geometry>
                <box size="0.2 0.2 0.5"/>
            </geometry>
        </collision>
    </link>


    <!-- finger_2_3_sensor_0_start -->
    <link name="finger_2_3_sensor_0_start">
        <inertial>
            <origin xyz="0 0 0" rpy="0 0 0"/>
            <mass value="0"/>
            <inertia ixx=".1" ixy=".1" ixz=".1" iyy=".1" iyz=".1" izz=".1"/>
        </inertial>
        <visual>
            <origin xyz="0 0 0" rpy="0 0 0"/>
            <geometry>
                <box size="0.02 0.2 0.5"/>
            </geometry>
        </visual>
        <collision>
            <origin xyz="0 0 0" rpy="0 0 0"/>
            <geometry>
                <box size="0.02 0.2 0.5"/>
            </geometry>
        </collision>
    </link>
    <!-- Joint: finger_2_3, finger_2_3_sensor_0_start -->
    <joint name="finger_2_3_finger_2_3_sensor_0_start_joint" type="fixed">
        <parent link="finger_2_3"/>
        <child link="finger_2_3_sensor_0_start"/>
        <origin xyz="0.1 0 0"
                rpy="0 0 0"/>
        <axis xyz="0 1 0"/>
        
    </joint>


    <!-- finger_2_3_sensor_0_stop -->
    <link name="finger_2_3_sensor_0_stop">
        <inertial>
            <origin xyz="0 0 0" rpy="0 0 0"/>
            <mass value="0"/>
            <inertia ixx=".1" ixy=".1" ixz=".1" iyy=".1" iyz=".1" izz=".1"/>
        </inertial>
        <visual>
            <origin xyz="0 0 0" rpy="0 0 0"/>
            <geometry>
                <box size="0.02 0.2 0.5"/>
            </geometry>
        </visual>
        <collision>
            <origin xyz="0 0 0" rpy="0 0 0"/>
            <geometry>
                <box size="0.02 0.2 0.5"/>
            </geometry>
        </collision>
    </link>
    <!-- Joint: finger_2_3, finger_2_3_sensor_0_stop -->
    <joint name="finger_2_3_finger_2_3_sensor_0_stop_joint" type="fixed">
        <parent link="finger_2_3"/>
        <child link="finger_2_3_sensor_0_stop"/>
        <origin xyz="-0.1 0 0"
                rpy="0 0 0"/>
        <axis xyz="0 1 0"/>
        
    </joint>


    <!-- finger_2_3_sensor_0_top -->
    <link name="finger_2_3_sensor_0_top">
        <inertial>
            <origin xyz="0 0 0" rpy="0 0 0"/>
            <mass value="0"/>
            <inertia ixx=".1" ixy=".1" ixz=".1" iyy=".1" iyz=".1" izz=".1"/>
        </inertial>
        <visual>
            <origin xyz="0 0 0" rpy="0 0 0"/>
            <geometry>
                <box size="0.2 0.2 0.02"/>
            </geometry>
        </visual>
        <collision>
            <origin xyz="0 0 0" rpy="0 0 0"/>
            <geometry>
                <box size="0.2 0.2 0.02"/>
            </geometry>
        </collision>
    </link>
    <!-- Joint: finger_2_3, finger_2_3_sensor_0_top -->
    <joint name="finger_2_3_finger_2_3_sensor_0_top_joint" type="fixed">
        <parent link="finger_2_3"/>
        <child link="finger_2_3_sensor_0_top"/>
        <origin xyz="0 0 0.25"
                rpy="0 0 0"/>
        <axis xyz="0 1 0"/>
        
    </joint>


    <!-- finger_2_3_sensor_0_bottom -->
    <link name="finger_2_3_sensor_0_bottom">
        <inertial>
            <origin xyz="0 0 0" rpy="0 0 0"/>
            <mass value="0"/>
            <inertia ixx=".1" ixy=".1" ixz=".1" iyy=".1" iyz=".1" izz=".1"/>
        </inertial>
        <visual>
            <origin xyz="0 0 0" rpy="0 0 0"/>
            <geometry>
                <box size="0.2 0.2 0.02"/>
            </geometry>
        </visual>
        <collision>
            <origin xyz="0 0 0" rpy="0 0 0"/>
            <geometry>
                <box size="0.2 0.2 0.02"/>
            </geometry>
        </collision>
    </link>
    <!-- Joint: finger_2_3, finger_2_3_sensor_0_bottom -->
    <joint name="finger_2_3_finger_2_3_sensor_0_bottom_joint" type="fixed">
        <parent link="finger_2_3"/>
        <child link="finger_2_3_sensor_0_bottom"/>
        <origin xyz="0 0 -0.25"
                rpy="0 0 0"/>
        <axis xyz="0 1 0"/>
        
    </joint>


    <!-- finger_2_3_sensor_0_left -->
    <link name="finger_2_3_sensor_0_left">
        <inertial>
            <origin xyz="0 0 0" rpy="0 0 0"/>
            <mass value="0"/>
            <inertia ixx=".1" ixy=".1" ixz=".1" iyy=".1" iyz=".1" izz=".1"/>
        </inertial>
        <visual>
            <origin xyz="0 0 0" rpy="0 0 0"/>
            <geometry>
                <box size="0.2 0.02 0.5"/>
            </geometry>
        </visual>
        <collision>
            <origin xyz="0 0 0" rpy="0 0 0"/>
            <geometry>
                <box size="0.2 0.02 0.5"/>
            </geometry>
        </collision>
    </link>
    <!-- Joint: finger_2_3, finger_2_3_sensor_0_left -->
    <joint name="finger_2_3_finger_2_3_sensor_0_left_joint" type="fixed">
        <parent link="finger_2_3"/>
        <child link="finger_2_3_sensor_0_left"/>
        <origin xyz="0 0.1 0"
                rpy="0 0 0"/>
        <axis xyz="0 1 0"/>
        
    </joint>


    <!-- finger_2_3_sensor_0_right -->
    <link name="finger_2_3_sensor_0_right">
        <inertial>
            <origin xyz="0 0 0" rpy="0 0 0"/>
            <mass value="0"/>
            <inertia ixx=".1" ixy=".1" ixz=".1" iyy=".1" iyz=".1" izz=".1"/>
        </inertial>
        <visual>
            <origin xyz="0 0 0" rpy="0 0 0"/>
            <geometry>
                <box size="0.2 0.02 0.5"/>
            </geometry>
        </visual>
        <collision>
            <origin xyz="0 0 0" rpy="0 0 0"/>
            <geometry>
                <box size="0.2 0.02 0.5"/>
            </geometry>
        </collision>
    </link>
    <!-- Joint: finger_2_3, finger_2_3_sensor_0_right -->
    <joint name="finger_2_3_finger_2_3_sensor_0_right_joint" type="fixed">
        <parent link="finger_2_3"/>
        <child link="finger_2_3_sensor_0_right"/>
        <origin xyz="0 -0.1 0"
                rpy="0 0 0"/>
        <axis xyz="0 1 0"/>
        
    </joint>
    <!-- Joint: finger_1_3, finger_2_3 -->
    <joint name="finger_1_3_finger_2_3_joint" type="fixed">
        <parent link="finger_1_3"/>
        <child link="finger_2_3"/>
        <origin xyz="0.810424031024606 0 -0.48309205425341406"
                rpy="0 -0.4363323129985824 0"/>
        <axis xyz="0 1 0"/>
        
    </joint>


    <!-- body_face_front_0 -->
    <link name="body_face_front_0">
        <inertial>
            <origin xyz="0 0 0" rpy="0 0 0"/>
            <mass value="0"/>
            <inertia ixx=".1" ixy=".1" ixz=".1" iyy=".1" iyz=".1" izz=".1"/>
        </inertial>
        <visual>
            <origin xyz="0 0 0" rpy="0 0 0"/>
            <geometry>
                <box size="0.002 0.1111111111111111 0.1111111111111111"/>
            </geometry>
        </visual>
        <collision>
            <origin xyz="0 0 0" rpy="0 0 0"/>
            <geometry>
                <box size="0.002 0.1111111111111111 0.1111111111111111"/>
            </geometry>
        </collision>
    </link>
    <!-- Joint: body, body_face_front_0 -->
    <joint name="body_body_face_front_0_joint" type="fixed">
        <parent link="body"/>
        <child link="body_face_front_0"/>
        <origin xyz="0.501 -0.33333333333333337 0.11111111111111116"
                rpy="0 0 0"/>
        <axis xyz="0 0 1"/>
        
    </joint>


    <!-- body_face_front_1 -->
    <link name="body_face_front_1">
        <inertial>
            <origin xyz="0 0 0" rpy="0 0 0"/>
            <mass value="0"/>
            <inertia ixx=".1" ixy=".1" ixz=".1" iyy=".1" iyz=".1" izz=".1"/>
        </inertial>
        <visual>
            <origin xyz="0 0 0" rpy="0 0 0"/>
            <geometry>
                <box size="0.002 0.1111111111111111 0.1111111111111111"/>
            </geometry>
        </visual>
        <collision>
            <origin xyz="0 0 0" rpy="0 0 0"/>
            <geometry>
                <box size="0.002 0.1111111111111111 0.1111111111111111"/>
            </geometry>
        </collision>
    </link>
    <!-- Joint: body, body_face_front_1 -->
    <joint name="body_body_face_front_1_joint" type="fixed">
        <parent link="body"/>
        <child link="body_face_front_1"/>
        <origin xyz="0.501 -0.2222222222222222 0.2222222222222222"
                rpy="0 0 0"/>
        <axis xyz="0 0 1"/>
        
    </joint>


    <!-- body_face_front_2 -->
    <link name="body_face_front_2">
        <inertial>
            <origin xyz="0 0 0" rpy="0 0 0"/>
            <mass value="0"/>
            <inertia ixx=".1" ixy=".1" ixz=".1" iyy=".1" iyz=".1" izz=".1"/>
        </inertial>
        <visual>
            <origin xyz="0 0 0" rpy="0 0 0"/>
            <geometry>
                <box size="0.002 0.1111111111111111 0.1111111111111111"/>
            </geometry>
        </visual>
        <collision>
            <origin xyz="0 0 0" rpy="0 0 0"/>
            <geometry>
                <box size="0.002 0.1111111111111111 0.1111111111111111"/>
            </geometry>
        </collision>
    </link>
    <!-- Joint: body, body_face_front_2 -->
    <joint name="body_body_face_front_2_joint" type="fixed">
        <parent link="body"/>
        <child link="body_face_front_2"/>
        <origin xyz="0.501 -0.1111111111111111 0.11111111111111116"
                rpy="0 0 0"/>
        <axis xyz="0 0 1"/>
        
    </joint>


    <!-- body_face_front_3 -->
    <link name="body_face_front_3">
        <inertial>
            <origin xyz="0 0 0" rpy="0 0 0"/>
            <mass value="0"/>
            <inertia ixx=".1" ixy=".1" ixz=".1" iyy=".1" iyz=".1" izz=".1"/>
        </inertial>
        <visual>
            <origin xyz="0 0 0" rpy="0 0 0"/>
            <geometry>
                <box size="0.002 0.1111111111111111 0.1111111111111111"/>
            </geometry>
        </visual>
        <collision>
            <origin xyz="0 0 0" rpy="0 0 0"/>
            <geometry>
                <box size="0.002 0.1111111111111111 0.1111111111111111"/>
            </geometry>
        </collision>
    </link>
    <!-- Joint: body, body_face_front_3 -->
    <joint name="body_body_face_front_3_joint" type="fixed">
        <parent link="body"/>
        <child link="body_face_front_3"/>
        <origin xyz="0.501 -0.1111111111111111 -0.2222222222222222"
                rpy="0 0 0"/>
        <axis xyz="0 0 1"/>
        
    </joint>


    <!-- body_face_front_4 -->
    <link name="body_face_front_4">
        <inertial>
            <origin xyz="0 0 0" rpy="0 0 0"/>
            <mass value="0"/>
            <inertia ixx=".1" ixy=".1" ixz=".1" iyy=".1" iyz=".1" izz=".1"/>
        </inertial>
        <visual>
            <origin xyz="0 0 0" rpy="0 0 0"/>
            <geometry>
                <box size="0.002 0.1111111111111111 0.1111111111111111"/>
            </geometry>
        </visual>
        <collision>
            <origin xyz="0 0 0" rpy="0 0 0"/>
            <geometry>
                <box size="0.002 0.1111111111111111 0.1111111111111111"/>
            </geometry>
        </collision>
    </link>
    <!-- Joint: body, body_face_front_4 -->
    <joint name="body_body_face_front_4_joint" type="fixed">
        <parent link="body"/>
        <child link="body_face_front_4"/>
        <origin xyz="0.501 0.0 -0.2222222222222222"
                rpy="0 0 0"/>
        <axis xyz="0 0 1"/>
        
    </joint>


    <!-- body_face_front_5 -->
    <link name="body_face_front_5">
        <inertial>
            <origin xyz="0 0 0" rpy="0 0 0"/>
            <mass value="0"/>
            <inertia ixx=".1" ixy=".1" ixz=".1" iyy=".1" iyz=".1" izz=".1"/>
        </inertial>
        <visual>
            <origin xyz="0 0 0" rpy="0 0 0"/>
            <geometry>
                <box size="0.002 0.1111111111111111 0.1111111111111111"/>
            </geometry>
        </visual>
        <collision>
            <origin xyz="0 0 0" rpy="0 0 0"/>
            <geometry>
                <box size="0.002 0.1111111111111111 0.1111111111111111"/>
            </geometry>
        </collision>
    </link>
    <!-- Joint: body, body_face_front_5 -->
    <joint name="body_body_face_front_5_joint" type="fixed">
        <parent link="body"/>
        <child link="body_face_front_5"/>
        <origin xyz="0.501 0.11111111111111116 0.11111111111111116"
                rpy="0 0 0"/>
        <axis xyz="0 0 1"/>
        
    </joint>


    <!-- body_face_front_6 -->
    <link name="body_face_front_6">
        <inertial>
            <origin xyz="0 0 0" rpy="0 0 0"/>
            <mass value="0"/>
            <inertia ixx=".1" ixy=".1" ixz=".1" iyy=".1" iyz=".1" izz=".1"/>
        </inertial>
        <visual>
            <origin xyz="0 0 0" rpy="0 0 0"/>
            <geometry>
                <box size="0.002 0.1111111111111111 0.1111111111111111"/>
            </geometry>
        </visual>
        <collision>
            <origin xyz="0 0 0" rpy="0 0 0"/>
            <geometry>
                <box size="0.002 0.1111111111111111 0.1111111111111111"/>
            </geometry>
        </collision>
    </link>
    <!-- Joint: body, body_face_front_6 -->
    <joint name="body_body_face_front_6_joint" type="fixed">
        <parent link="body"/>
        <child link="body_face_front_6"/>
        <origin xyz="0.501 0.11111111111111116 -0.2222222222222222"
                rpy="0 0 0"/>
        <axis xyz="0 0 1"/>
        
    </joint>


    <!-- body_face_front_7 -->
    <link name="body_face_front_7">
        <inertial>
            <origin xyz="0 0 0" rpy="0 0 0"/>
            <mass value="0"/>
            <inertia ixx=".1" ixy=".1" ixz=".1" iyy=".1" iyz=".1" izz=".1"/>
        </inertial>
        <visual>
            <origin xyz="0 0 0" rpy="0 0 0"/>
            <geometry>
                <box size="0.002 0.1111111111111111 0.1111111111111111"/>
            </geometry>
        </visual>
        <collision>
            <origin xyz="0 0 0" rpy="0 0 0"/>
            <geometry>
                <box size="0.002 0.1111111111111111 0.1111111111111111"/>
            </geometry>
        </collision>
    </link>
    <!-- Joint: body, body_face_front_7 -->
    <joint name="body_body_face_front_7_joint" type="fixed">
        <parent link="body"/>
        <child link="body_face_front_7"/>
        <origin xyz="0.501 0.2222222222222222 0.2222222222222222"
                rpy="0 0 0"/>
        <axis xyz="0 0 1"/>
        
    </joint>


    <!-- body_face_front_8 -->
    <link name="body_face_front_8">
        <inertial>
            <origin xyz="0 0 0" rpy="0 0 0"/>
            <mass value="0"/>
            <inertia ixx=".1" ixy=".1" ixz=".1" iyy=".1" iyz=".1" izz=".1"/>
        </inertial>
        <visual>
            <origin xyz="0 0 0" rpy="0 0 0"/>
            <geometry>
                <box size="0.002 0.1111111111111111 0.1111111111111111"/>
            </geometry>
        </visual>
        <collision>
            <origin xyz="0 0 0" rpy="0 0 0"/>
            <geometry>
                <box size="0.002 0.1111111111111111 0.1111111111111111"/>
            </geometry>
        </collision>
    </link>
    <!-- Joint: body, body_face_front_8 -->
    <joint name="body_body_face_front_8_joint" type="fixed">
        <parent link="body"/>
        <child link="body_face_front_8"/>
        <origin xyz="0.501 0.33333333333333337 0.11111111111111116"
                rpy="0 0 0"/>
        <axis xyz="0 0 1"/>
        
    </joint>


    <!-- body_face_top_0 -->
    <link name="body_face_top_0">
        <inertial>
            <origin xyz="0 0 0" rpy="0 0 0"/>
            <mass value="0"/>
            <inertia ixx=".1" ixy=".1" ixz=".1" iyy=".1" iyz=".1" izz=".1"/>
        </inertial>
        <visual>
            <origin xyz="0 0 0" rpy="0 0 0"/>
            <geometry>
                <box size="0.1111111111111111 0.1111111111111111 0.002"/>
            </geometry>
        </visual>
        <collision>
            <origin xyz="0 0 0" rpy="0 0 0"/>
            <geometry>
                <box size="0.1111111111111111 0.1111111111111111 0.002"/>
            </geometry>
        </collision>
    </link>
    <!-- Joint: body, body_face_top_0 -->
    <joint name="body_body_face_top_0_joint" type="fixed">
        <parent link="body"/>
        <child link="body_face_top_0"/>
        <origin xyz="0.11111111111111116 -0.2222222222222222 0.501"
                rpy="0 0 0"/>
        <axis xyz="0 0 1"/>
        
    </joint>


    <!-- body_face_top_1 -->
    <link name="body_face_top_1">
        <inertial>
            <origin xyz="0 0 0" rpy="0 0 0"/>
            <mass value="0"/>
            <inertia ixx=".1" ixy=".1" ixz=".1" iyy=".1" iyz=".1" izz=".1"/>
        </inertial>
        <visual>
            <origin xyz="0 0 0" rpy="0 0 0"/>
            <geometry>
                <box size="0.1111111111111111 0.1111111111111111 0.002"/>
            </geometry>
        </visual>
        <collision>
            <origin xyz="0 0 0" rpy="0 0 0"/>
            <geometry>
                <box size="0.1111111111111111 0.1111111111111111 0.002"/>
            </geometry>
        </collision>
    </link>
    <!-- Joint: body, body_face_top_1 -->
    <joint name="body_body_face_top_1_joint" type="fixed">
        <parent link="body"/>
        <child link="body_face_top_1"/>
        <origin xyz="0.11111111111111116 -0.1111111111111111 0.501"
                rpy="0 0 0"/>
        <axis xyz="0 0 1"/>
        
    </joint>


    <!-- body_face_top_2 -->
    <link name="body_face_top_2">
        <inertial>
            <origin xyz="0 0 0" rpy="0 0 0"/>
            <mass value="0"/>
            <inertia ixx=".1" ixy=".1" ixz=".1" iyy=".1" iyz=".1" izz=".1"/>
        </inertial>
        <visual>
            <origin xyz="0 0 0" rpy="0 0 0"/>
            <geometry>
                <box size="0.1111111111111111 0.1111111111111111 0.002"/>
            </geometry>
        </visual>
        <collision>
            <origin xyz="0 0 0" rpy="0 0 0"/>
            <geometry>
                <box size="0.1111111111111111 0.1111111111111111 0.002"/>
            </geometry>
        </collision>
    </link>
    <!-- Joint: body, body_face_top_2 -->
    <joint name="body_body_face_top_2_joint" type="fixed">
        <parent link="body"/>
        <child link="body_face_top_2"/>
        <origin xyz="0.2222222222222222 -0.1111111111111111 0.501"
                rpy="0 0 0"/>
        <axis xyz="0 0 1"/>
        
    </joint>


    <!-- body_face_top_3 -->
    <link name="body_face_top_3">
        <inertial>
            <origin xyz="0 0 0" rpy="0 0 0"/>
            <mass value="0"/>
            <inertia ixx=".1" ixy=".1" ixz=".1" iyy=".1" iyz=".1" izz=".1"/>
        </inertial>
        <visual>
            <origin xyz="0 0 0" rpy="0 0 0"/>
            <geometry>
                <box size="0.1111111111111111 0.1111111111111111 0.002"/>
            </geometry>
        </visual>
        <collision>
            <origin xyz="0 0 0" rpy="0 0 0"/>
            <geometry>
                <box size="0.1111111111111111 0.1111111111111111 0.002"/>
            </geometry>
        </collision>
    </link>
    <!-- Joint: body, body_face_top_3 -->
    <joint name="body_body_face_top_3_joint" type="fixed">
        <parent link="body"/>
        <child link="body_face_top_3"/>
        <origin xyz="-0.33333333333333337 0.0 0.501"
                rpy="0 0 0"/>
        <axis xyz="0 0 1"/>
        
    </joint>


    <!-- body_face_top_4 -->
    <link name="body_face_top_4">
        <inertial>
            <origin xyz="0 0 0" rpy="0 0 0"/>
            <mass value="0"/>
            <inertia ixx=".1" ixy=".1" ixz=".1" iyy=".1" iyz=".1" izz=".1"/>
        </inertial>
        <visual>
            <origin xyz="0 0 0" rpy="0 0 0"/>
            <geometry>
                <box size="0.1111111111111111 0.1111111111111111 0.002"/>
            </geometry>
        </visual>
        <collision>
            <origin xyz="0 0 0" rpy="0 0 0"/>
            <geometry>
                <box size="0.1111111111111111 0.1111111111111111 0.002"/>
            </geometry>
        </collision>
    </link>
    <!-- Joint: body, body_face_top_4 -->
    <joint name="body_body_face_top_4_joint" type="fixed">
        <parent link="body"/>
        <child link="body_face_top_4"/>
        <origin xyz="-0.2222222222222222 0.0 0.501"
                rpy="0 0 0"/>
        <axis xyz="0 0 1"/>
        
    </joint>


    <!-- body_face_top_5 -->
    <link name="body_face_top_5">
        <inertial>
            <origin xyz="0 0 0" rpy="0 0 0"/>
            <mass value="0"/>
            <inertia ixx=".1" ixy=".1" ixz=".1" iyy=".1" iyz=".1" izz=".1"/>
        </inertial>
        <visual>
            <origin xyz="0 0 0" rpy="0 0 0"/>
            <geometry>
                <box size="0.1111111111111111 0.1111111111111111 0.002"/>
            </geometry>
        </visual>
        <collision>
            <origin xyz="0 0 0" rpy="0 0 0"/>
            <geometry>
                <box size="0.1111111111111111 0.1111111111111111 0.002"/>
            </geometry>
        </collision>
    </link>
    <!-- Joint: body, body_face_top_5 -->
    <joint name="body_body_face_top_5_joint" type="fixed">
        <parent link="body"/>
        <child link="body_face_top_5"/>
        <origin xyz="-0.1111111111111111 0.0 0.501"
                rpy="0 0 0"/>
        <axis xyz="0 0 1"/>
        
    </joint>


    <!-- body_face_top_6 -->
    <link name="body_face_top_6">
        <inertial>
            <origin xyz="0 0 0" rpy="0 0 0"/>
            <mass value="0"/>
            <inertia ixx=".1" ixy=".1" ixz=".1" iyy=".1" iyz=".1" izz=".1"/>
        </inertial>
        <visual>
            <origin xyz="0 0 0" rpy="0 0 0"/>
            <geometry>
                <box size="0.1111111111111111 0.1111111111111111 0.002"/>
            </geometry>
        </visual>
        <collision>
            <origin xyz="0 0 0" rpy="0 0 0"/>
            <geometry>
                <box size="0.1111111111111111 0.1111111111111111 0.002"/>
            </geometry>
        </collision>
    </link>
    <!-- Joint: body, body_face_top_6 -->
    <joint name="body_body_face_top_6_joint" type="fixed">
        <parent link="body"/>
        <child link="body_face_top_6"/>
        <origin xyz="0.0 0.0 0.501"
                rpy="0 0 0"/>
        <axis xyz="0 0 1"/>
        
    </joint>


    <!-- body_face_top_7 -->
    <link name="body_face_top_7">
        <inertial>
            <origin xyz="0 0 0" rpy="0 0 0"/>
            <mass value="0"/>
            <inertia ixx=".1" ixy=".1" ixz=".1" iyy=".1" iyz=".1" izz=".1"/>
        </inertial>
        <visual>
            <origin xyz="0 0 0" rpy="0 0 0"/>
            <geometry>
                <box size="0.1111111111111111 0.1111111111111111 0.002"/>
            </geometry>
        </visual>
        <collision>
            <origin xyz="0 0 0" rpy="0 0 0"/>
            <geometry>
                <box size="0.1111111111111111 0.1111111111111111 0.002"/>
            </geometry>
        </collision>
    </link>
    <!-- Joint: body, body_face_top_7 -->
    <joint name="body_body_face_top_7_joint" type="fixed">
        <parent link="body"/>
        <child link="body_face_top_7"/>
        <origin xyz="0.11111111111111116 0.0 0.501"
                rpy="0 0 0"/>
        <axis xyz="0 0 1"/>
        
    </joint>


    <!-- body_face_top_8 -->
    <link name="body_face_top_8">
        <inertial>
            <origin xyz="0 0 0" rpy="0 0 0"/>
            <mass value="0"/>
            <inertia ixx=".1" ixy=".1" ixz=".1" iyy=".1" iyz=".1" izz=".1"/>
        </inertial>
        <visual>
            <origin xyz="0 0 0" rpy="0 0 0"/>
            <geometry>
                <box size="0.1111111111111111 0.1111111111111111 0.002"/>
            </geometry>
        </visual>
        <collision>
            <origin xyz="0 0 0" rpy="0 0 0"/>
            <geometry>
                <box size="0.1111111111111111 0.1111111111111111 0.002"/>
            </geometry>
        </collision>
    </link>
    <!-- Joint: body, body_face_top_8 -->
    <joint name="body_body_face_top_8_joint" type="fixed">
        <parent link="body"/>
        <child link="body_face_top_8"/>
        <origin xyz="0.2222222222222222 0.0 0.501"
                rpy="0 0 0"/>
        <axis xyz="0 0 1"/>
        
    </joint>


    <!-- body_face_top_9 -->
    <link name="body_face_top_9">
        <inertial>
            <origin xyz="0 0 0" rpy="0 0 0"/>
            <mass value="0"/>
            <inertia ixx=".1" ixy=".1" ixz=".1" iyy=".1" iyz=".1" izz=".1"/>
        </inertial>
        <visual>
            <origin xyz="0 0 0" rpy="0 0 0"/>
            <geometry>
                <box size="0.1111111111111111 0.1111111111111111 0.002"/>
            </geometry>
        </visual>
        <collision>
            <origin xyz="0 0 0" rpy="0 0 0"/>
            <geometry>
                <box size="0.1111111111111111 0.1111111111111111 0.002"/>
            </geometry>
        </collision>
    </link>
    <!-- Joint: body, body_face_top_9 -->
    <joint name="body_body_face_top_9_joint" type="fixed">
        <parent link="body"/>
        <child link="body_face_top_9"/>
        <origin xyz="0.33333333333333337 0.0 0.501"
                rpy="0 0 0"/>
        <axis xyz="0 0 1"/>
        
    </joint>


    <!-- body_face_top_10 -->
    <link name="body_face_top_10">
        <inertial>
            <origin xyz="0 0 0" rpy="0 0 0"/>
            <mass value="0"/>
            <inertia ixx=".1" ixy=".1" ixz=".1" iyy=".1" iyz=".1" izz=".1"/>
        </inertial>
        <visual>
            <origin xyz="0 0 0" rpy="0 0 0"/>
            <geometry>
                <box size="0.1111111111111111 0.1111111111111111 0.002"/>
            </geometry>
        </visual>
        <collision>
            <origin xyz="0 0 0" rpy="0 0 0"/>
            <geometry>
                <box size="0.1111111111111111 0.1111111111111111 0.002"/>
            </geometry>
        </collision>
    </link>
    <!-- Joint: body, body_face_top_10 -->
    <joint name="body_body_face_top_10_joint" type="fixed">
        <parent link="body"/>
        <child link="body_face_top_10"/>
        <origin xyz="0.11111111111111116 0.11111111111111116 0.501"
                rpy="0 0 0"/>
        <axis xyz="0 0 1"/>
        
    </joint>


    <!-- body_face_top_11 -->
    <link name="body_face_top_11">
        <inertial>
            <origin xyz="0 0 0" rpy="0 0 0"/>
            <mass value="0"/>
            <inertia ixx=".1" ixy=".1" ixz=".1" iyy=".1" iyz=".1" izz=".1"/>
        </inertial>
        <visual>
            <origin xyz="0 0 0" rpy="0 0 0"/>
            <geometry>
                <box size="0.1111111111111111 0.1111111111111111 0.002"/>
            </geometry>
        </visual>
        <collision>
            <origin xyz="0 0 0" rpy="0 0 0"/>
            <geometry>
                <box size="0.1111111111111111 0.1111111111111111 0.002"/>
            </geometry>
        </collision>
    </link>
    <!-- Joint: body, body_face_top_11 -->
    <joint name="body_body_face_top_11_joint" type="fixed">
        <parent link="body"/>
        <child link="body_face_top_11"/>
        <origin xyz="0.2222222222222222 0.11111111111111116 0.501"
                rpy="0 0 0"/>
        <axis xyz="0 0 1"/>
        
    </joint>


    <!-- body_face_top_12 -->
    <link name="body_face_top_12">
        <inertial>
            <origin xyz="0 0 0" rpy="0 0 0"/>
            <mass value="0"/>
            <inertia ixx=".1" ixy=".1" ixz=".1" iyy=".1" iyz=".1" izz=".1"/>
        </inertial>
        <visual>
            <origin xyz="0 0 0" rpy="0 0 0"/>
            <geometry>
                <box size="0.1111111111111111 0.1111111111111111 0.002"/>
            </geometry>
        </visual>
        <collision>
            <origin xyz="0 0 0" rpy="0 0 0"/>
            <geometry>
                <box size="0.1111111111111111 0.1111111111111111 0.002"/>
            </geometry>
        </collision>
    </link>
    <!-- Joint: body, body_face_top_12 -->
    <joint name="body_body_face_top_12_joint" type="fixed">
        <parent link="body"/>
        <child link="body_face_top_12"/>
        <origin xyz="0.11111111111111116 0.2222222222222222 0.501"
                rpy="0 0 0"/>
        <axis xyz="0 0 1"/>
        
    </joint>


</robot>
